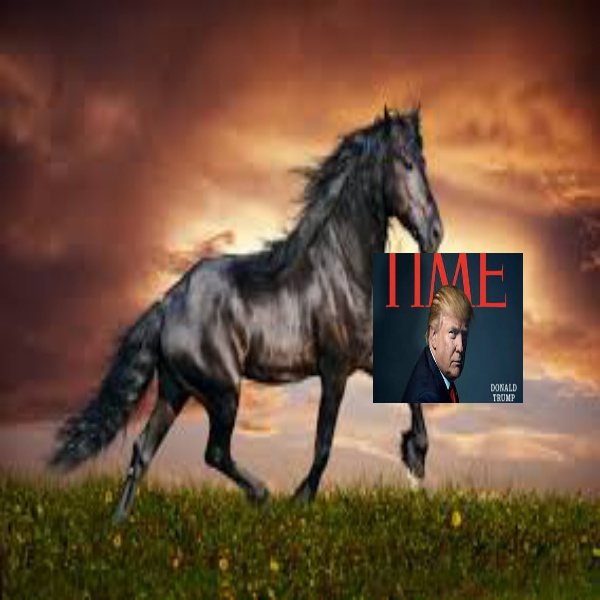time_cover: (375, 238, 526, 405)
